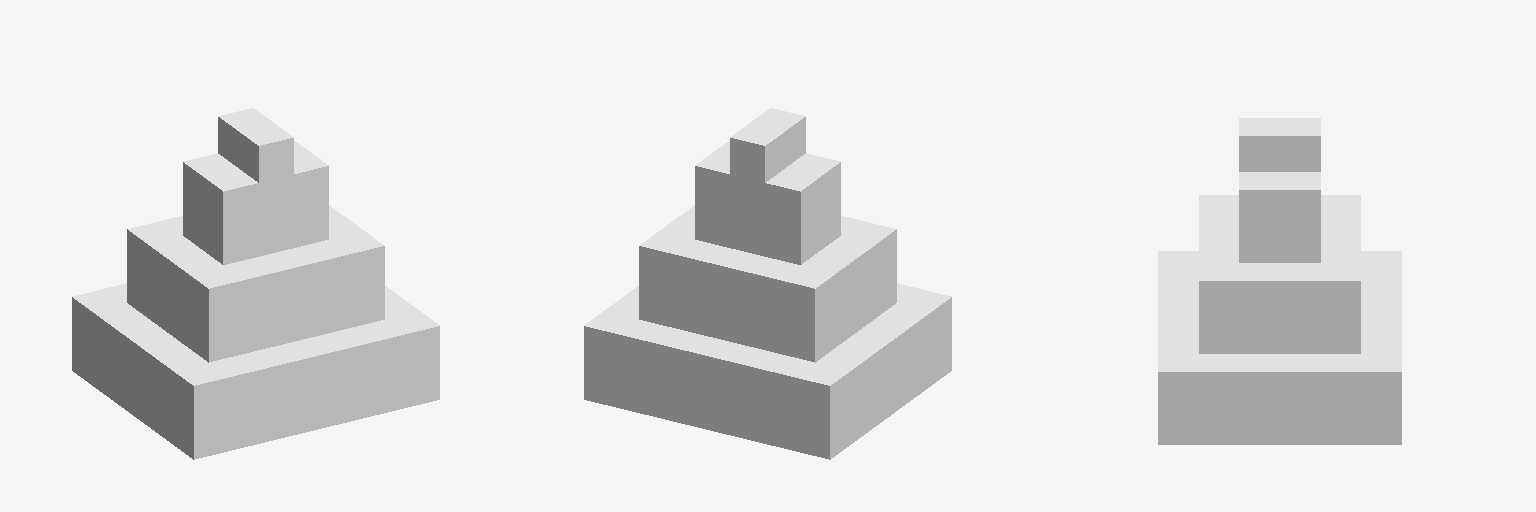
Rendered from yleoba.obj.
3 renders of one model, left to right at view 1: azimuth 30°, elevation 25°; view 2: azimuth 150°, elevation 25°; view 3: azimuth 270°, elevation 25°, orthographic.
Parts seen in each view (by area): view 1: object 1; view 2: object 1; view 3: object 1.
Boxes of the visible parts, x1,y1,x2,y2 form: object 1: [72, 108, 439, 459]; object 1: [584, 108, 951, 459]; object 1: [1158, 118, 1401, 444].
Size of the model in its own units: 0.7 by 0.7 by 0.6.